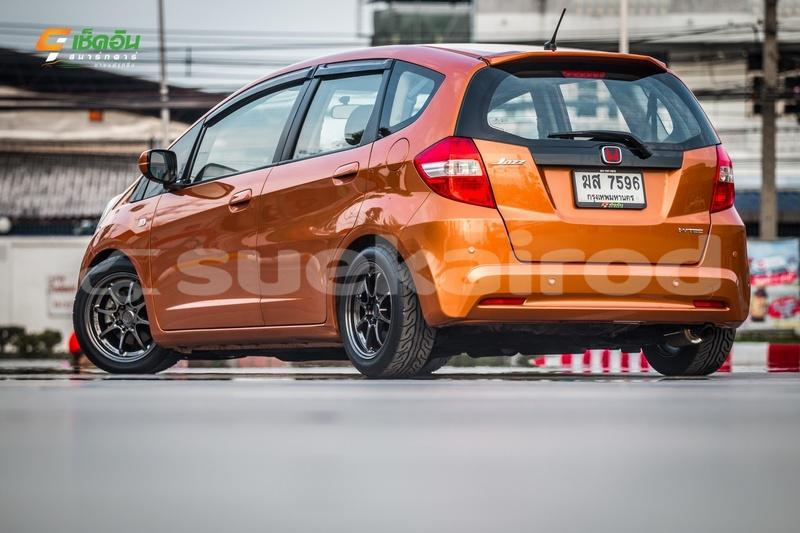Hatchback: (52, 27, 757, 401)
